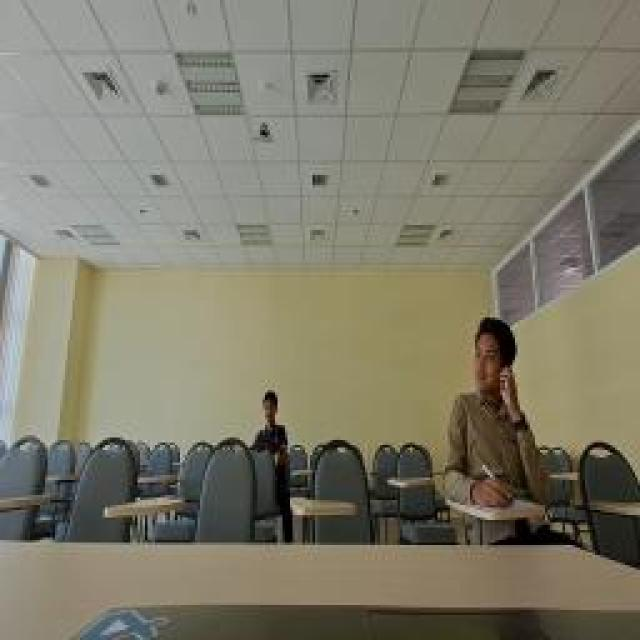study: (438, 310, 550, 502), (250, 390, 288, 455)
